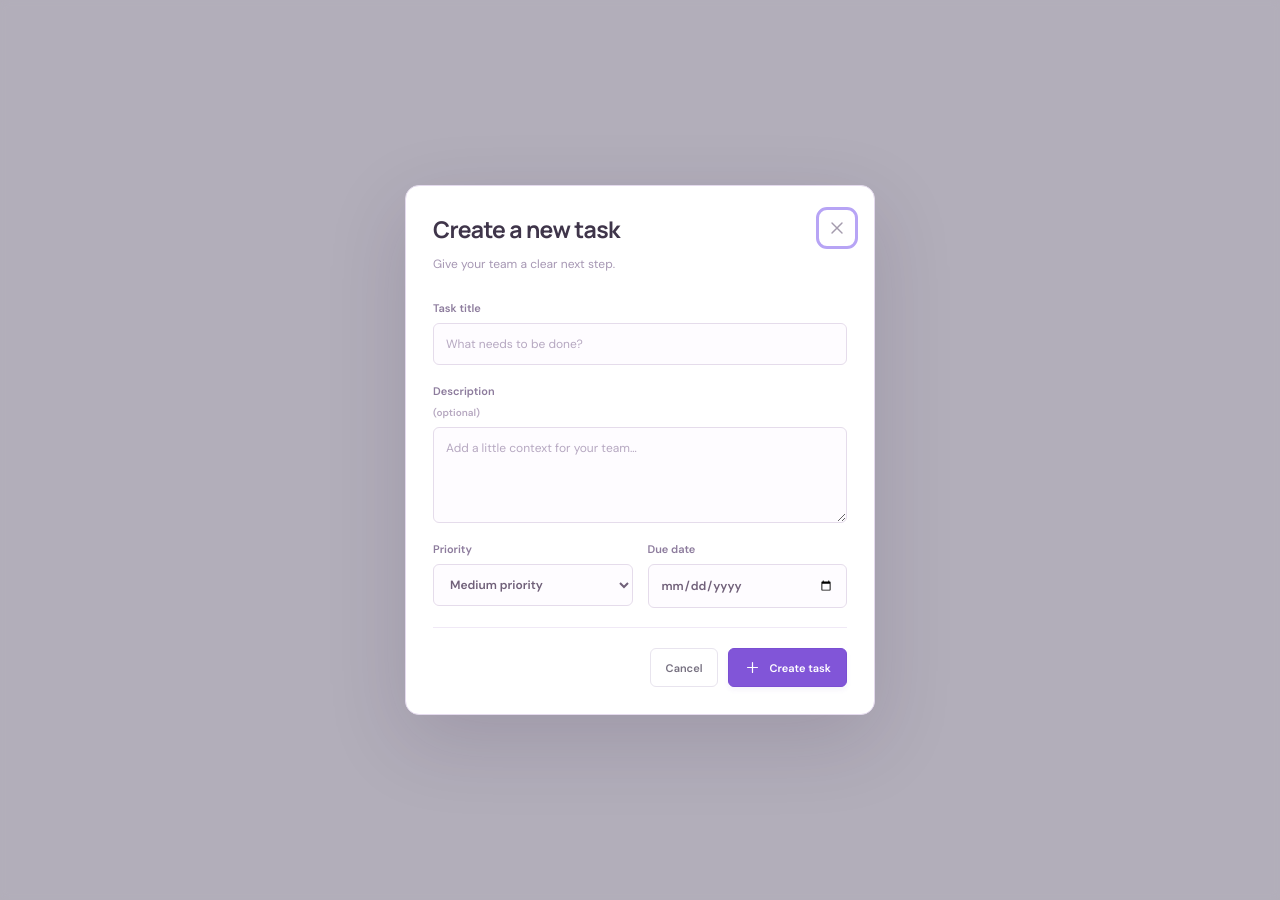
Test case: admin task creation › keeps the form open and reports API failures
Type "Plan launch" into the field labelled "Task title" at [640, 344], box 433,323 -> 847,365
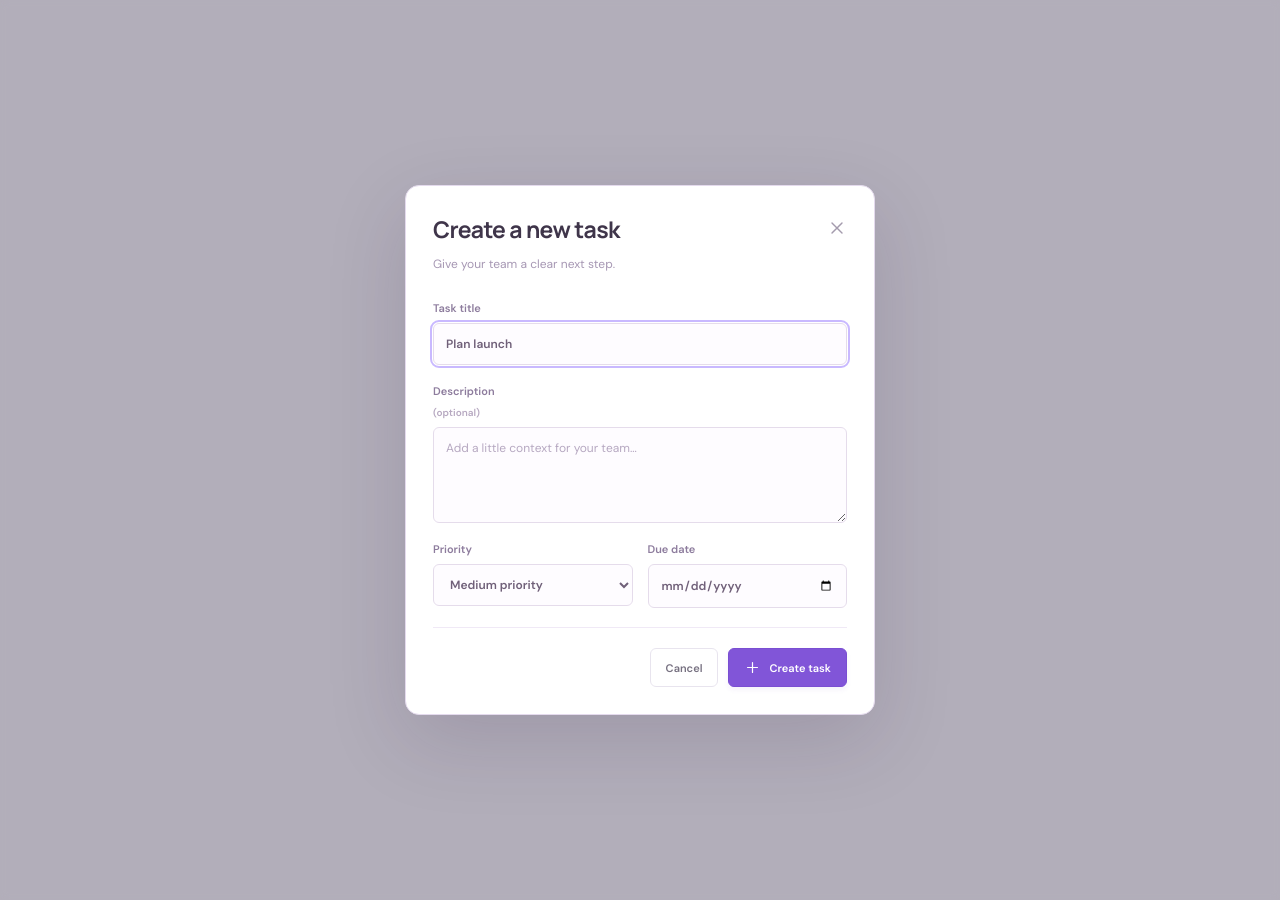
Click the button "Create task" at [788, 668], box 728,648 -> 847,687
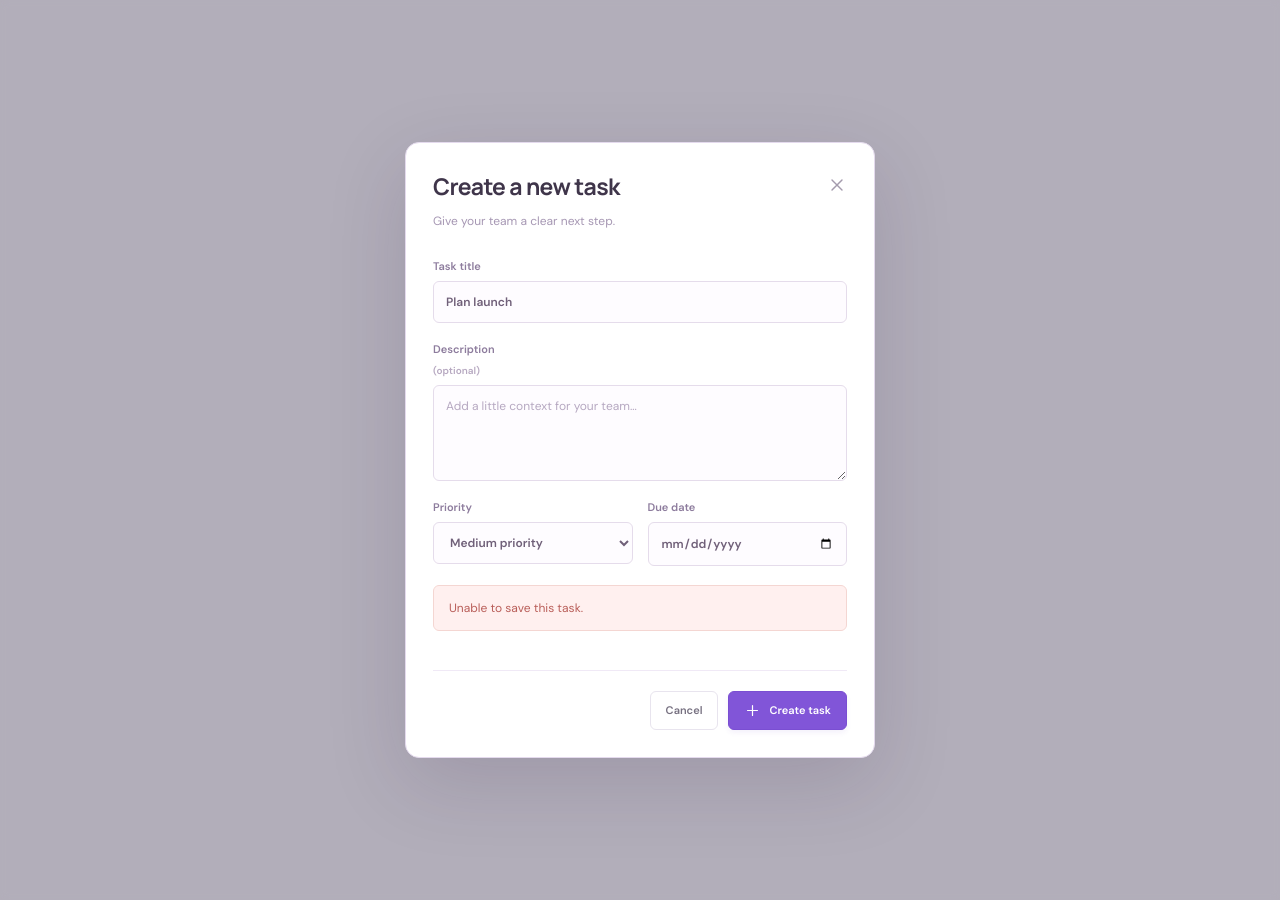
Result: the message reads "Unable to save this task." at 449,600 -> 583,616
